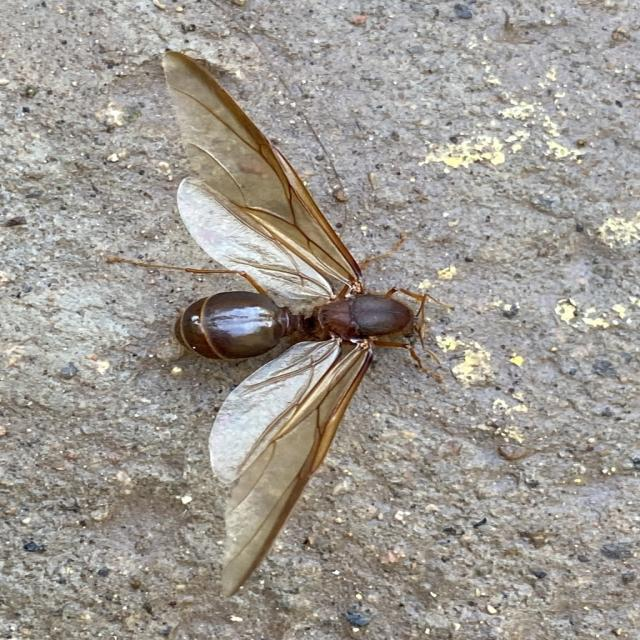Alive-Male-Alate: (103, 50, 454, 598)
